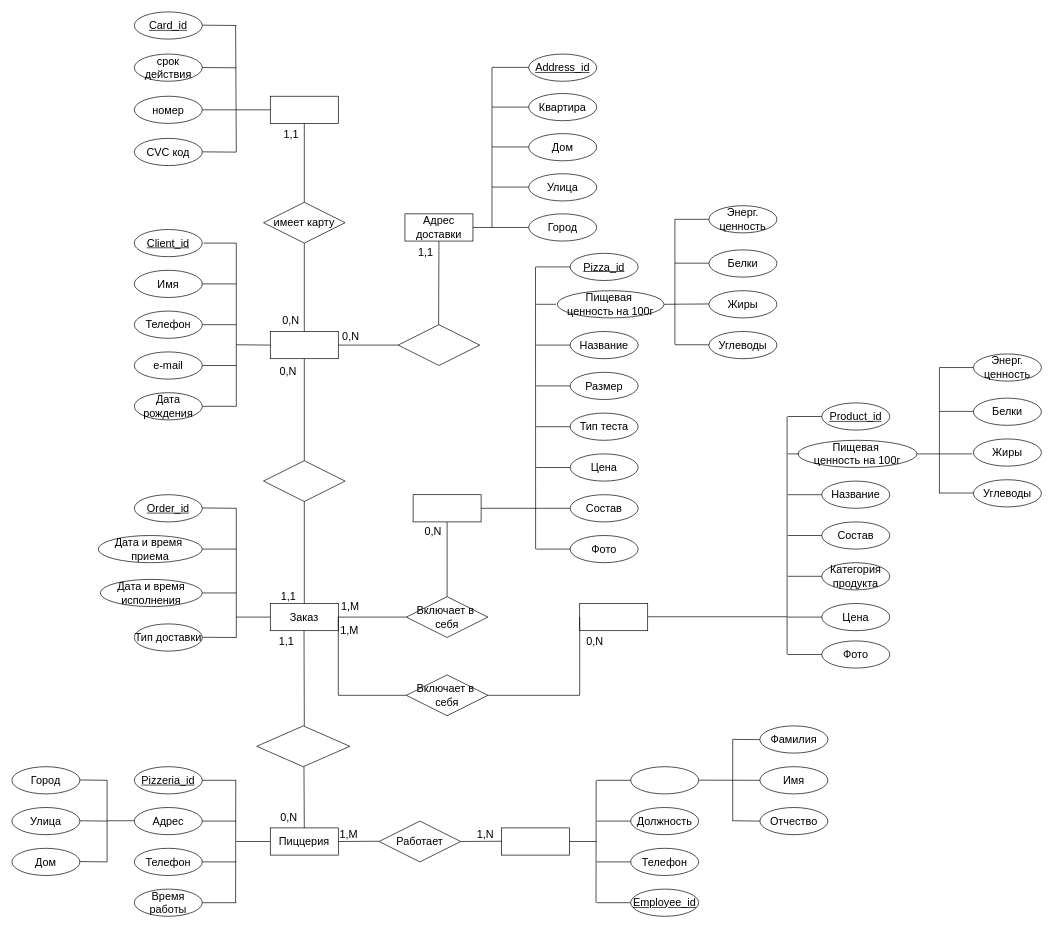
Some shapes in this 1053 by 928 pixel diagram are drawn without their labels. The centre of each missing label's shape, as x and y in pixels:
"Выполняет заказ" belongs at (303,746).
"Делает заказ" belongs at (304,481).
"имеет адрес" belongs at (438,345).
"Карта для оплаты" belongs at (304,109).
"Клиент" belongs at (304,345).
"Пицца" belongs at (446,508).
"Прочие товары" belongs at (613,617).
"Работник" belongs at (535,841).
"ФИО" belongs at (664,780).
